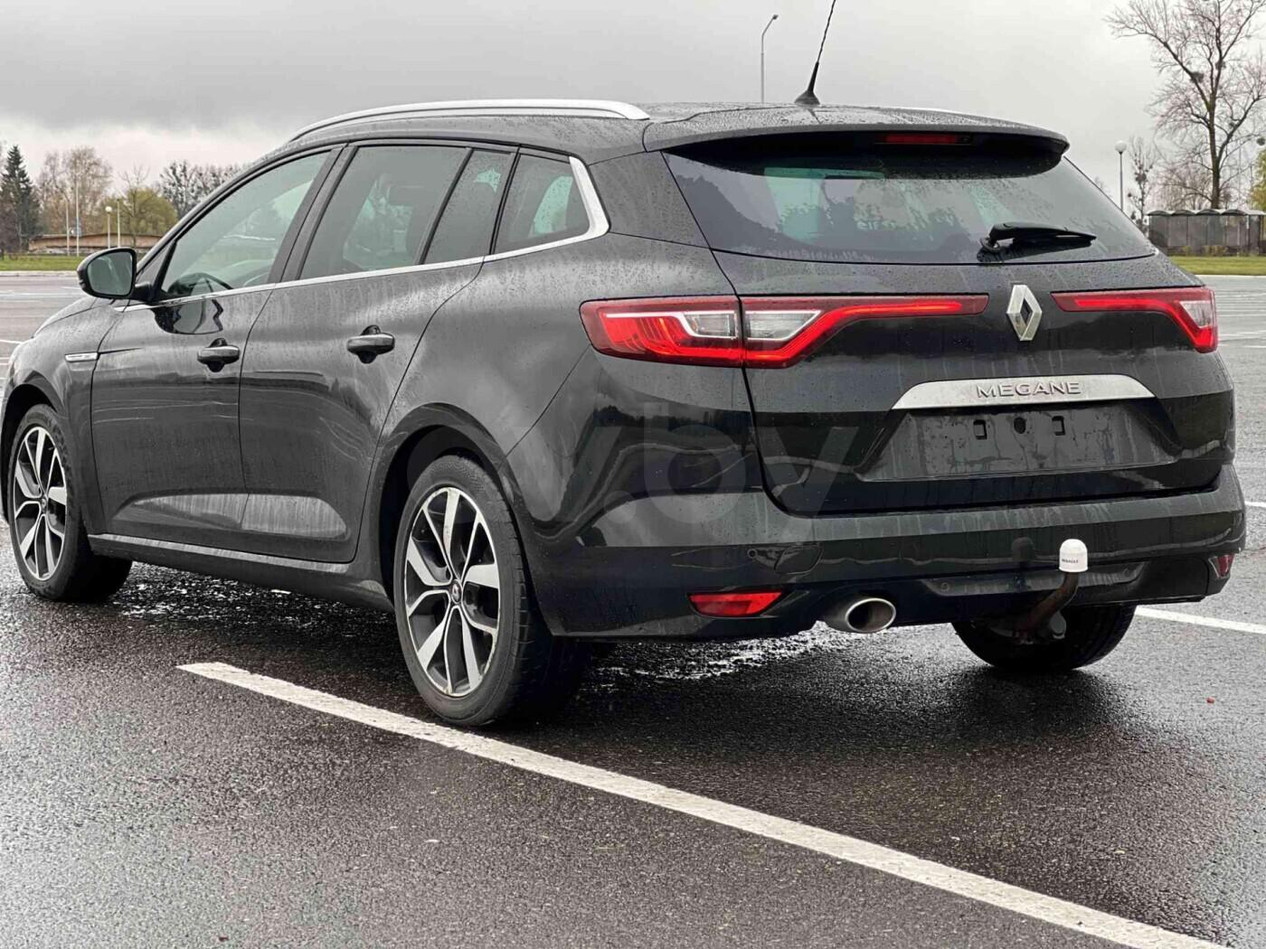Megane_2016-2020: (0, 85, 1249, 730)
